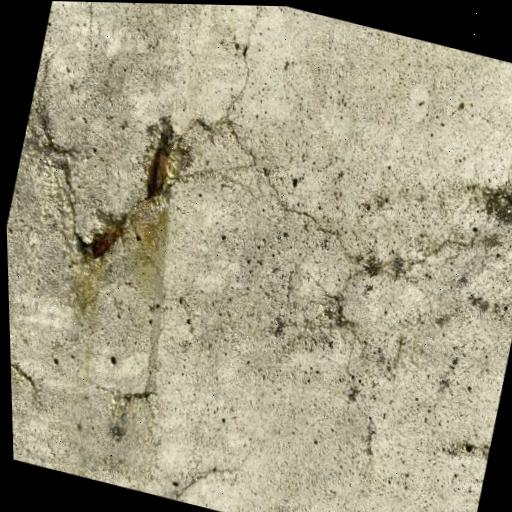exposed_rebar: (146, 119, 173, 200), (89, 226, 123, 258)
